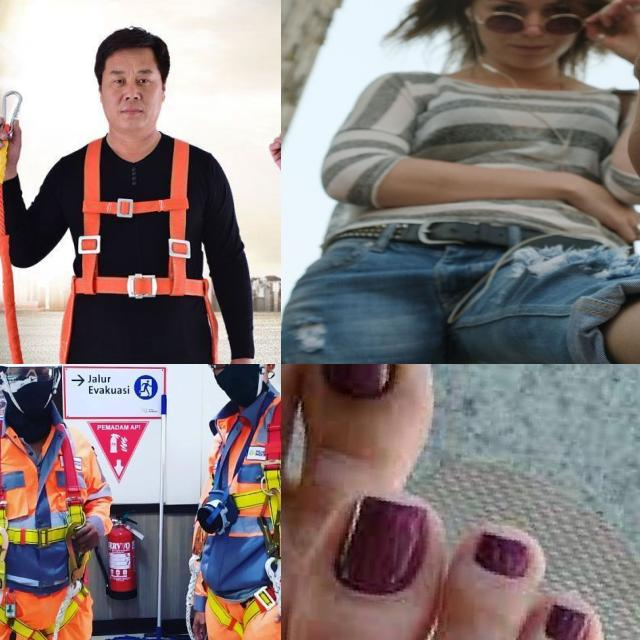Barefoots: (281, 364, 640, 640)
Harness: (57, 138, 219, 364), (0, 418, 86, 639), (206, 396, 281, 635)
No_Glasses: (105, 67, 158, 93)
